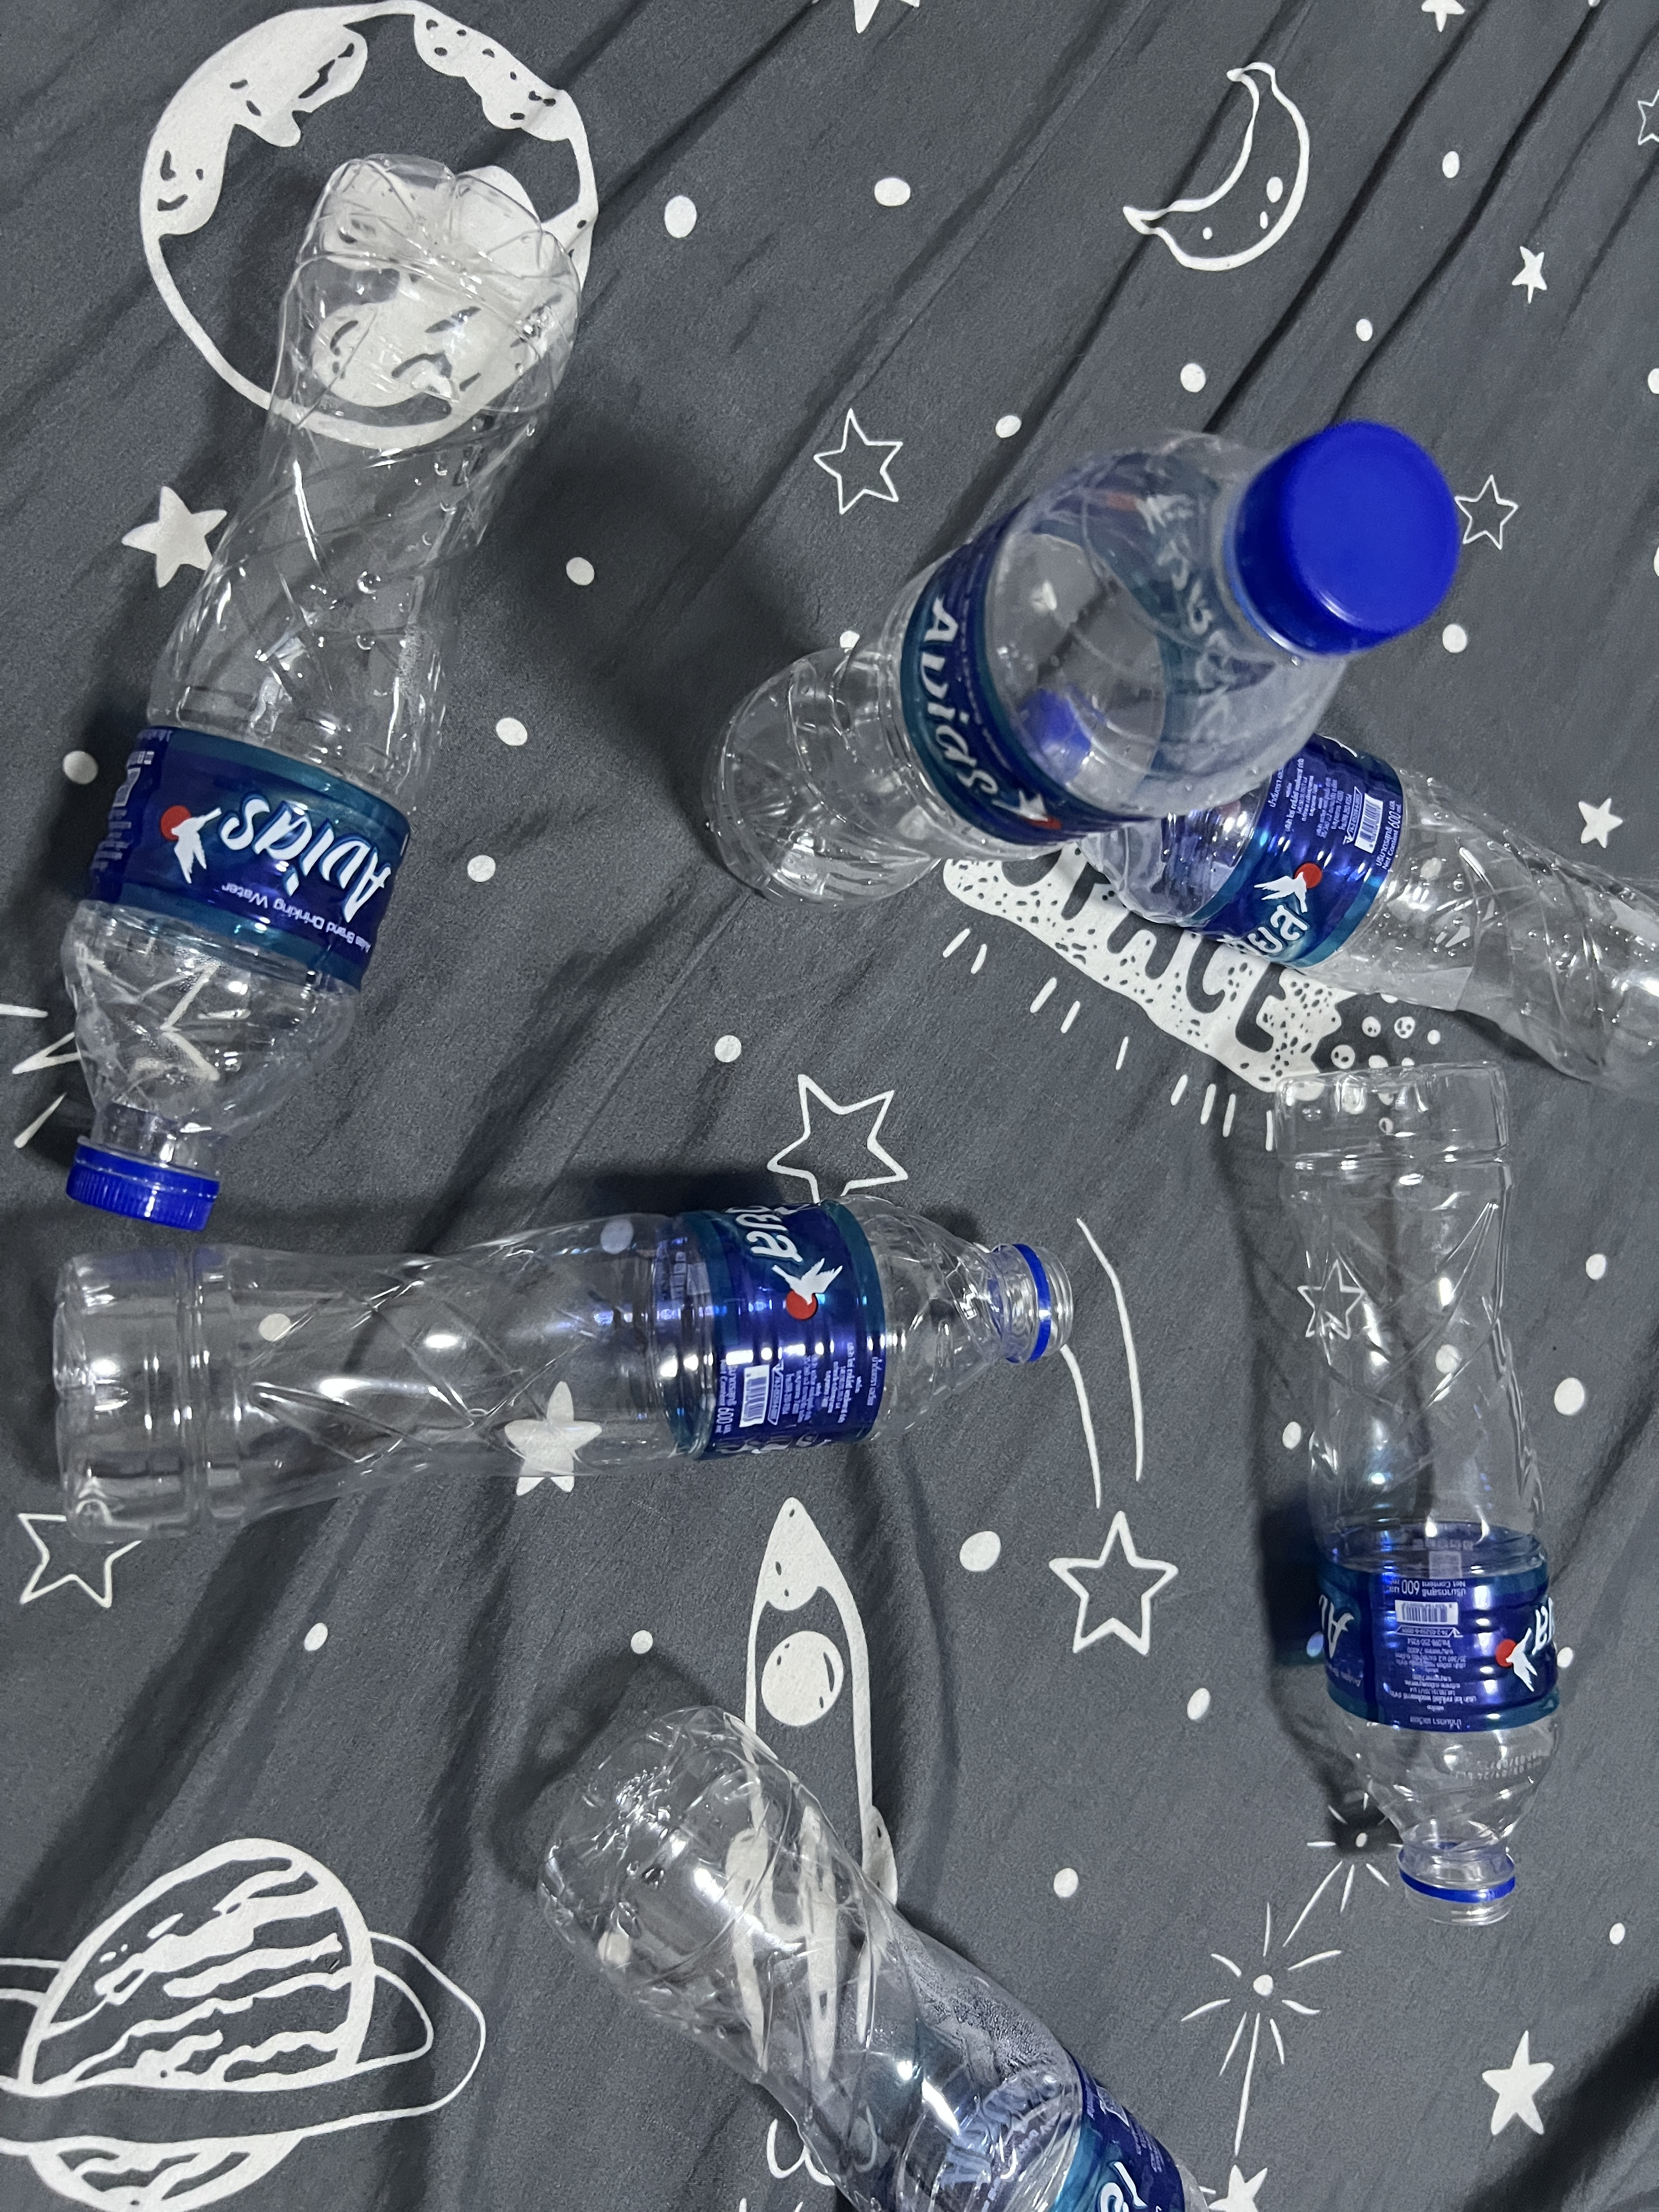plastic_bottle: (0, 141, 586, 1240), (0, 1179, 1091, 1575), (493, 1662, 1253, 2212), (666, 413, 1473, 900), (1223, 1029, 1598, 1942), (1068, 660, 1659, 1097)
